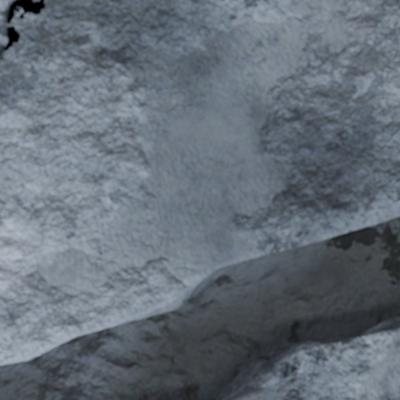brick: (0, 0, 399, 364), (217, 314, 399, 399)
crack: (2, 0, 45, 24)
